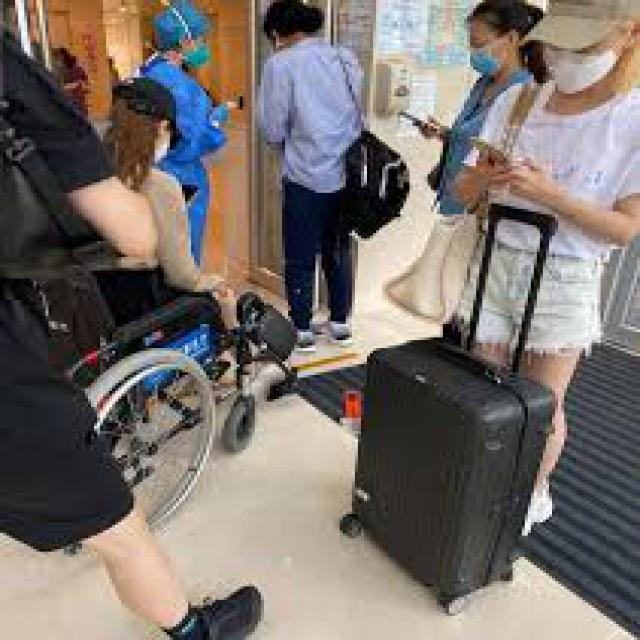wheelchairs: (30, 222, 298, 541)
